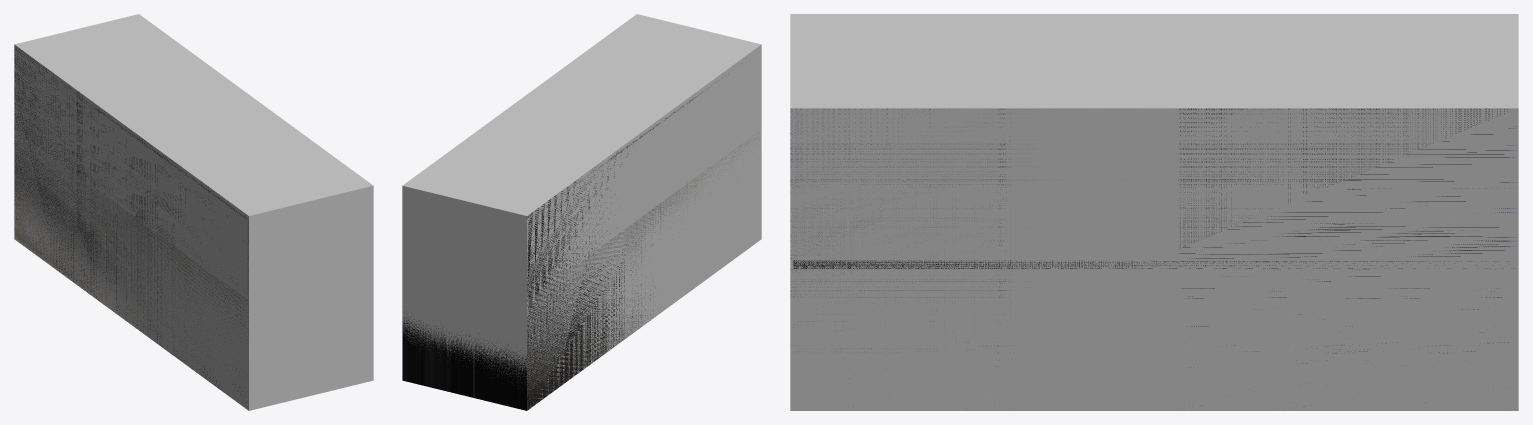
File: deli_fridge_02.DAE
The picture shows the model from 3 angles, left to right: view 1: azimuth 30°, elevation 25°; view 2: azimuth 150°, elevation 25°; view 3: azimuth 270°, elevation 25°; orthographic projection. The views are drawn at different scales.
Parts seen in each view (by area): view 1: bounds, deli_fridge_two100, colbox-1; view 2: bounds, colbox-1, deli_fridge_two100; view 3: bounds, colbox-1, deli_fridge_two100.
Boxes of the visible parts, x1,y1,x2,y2 form: bounds: (14, 14, 373, 410); deli_fridge_two100: (14, 49, 248, 391); colbox-1: (14, 49, 245, 402); bounds: (402, 14, 761, 406); colbox-1: (402, 159, 641, 410); deli_fridge_two100: (527, 87, 757, 410); bounds: (790, 14, 1518, 410); colbox-1: (790, 108, 1518, 410); deli_fridge_two100: (793, 260, 1514, 268).
Bounding box in the file's own units: 88.99 × 290 × 133.
